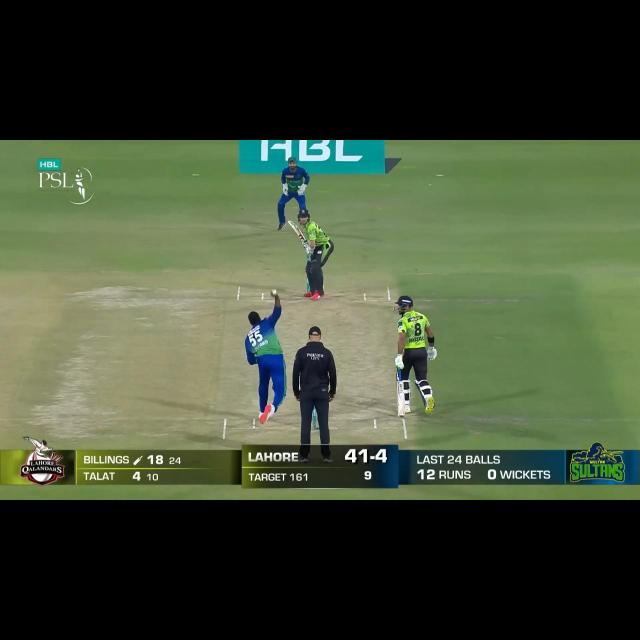bat: (287, 220, 307, 245), (396, 381, 407, 418)
toe: (396, 410, 406, 419), (287, 220, 294, 227)
